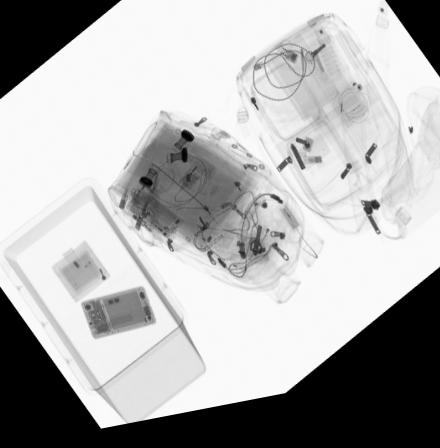Lighter: (147, 224, 165, 242)
